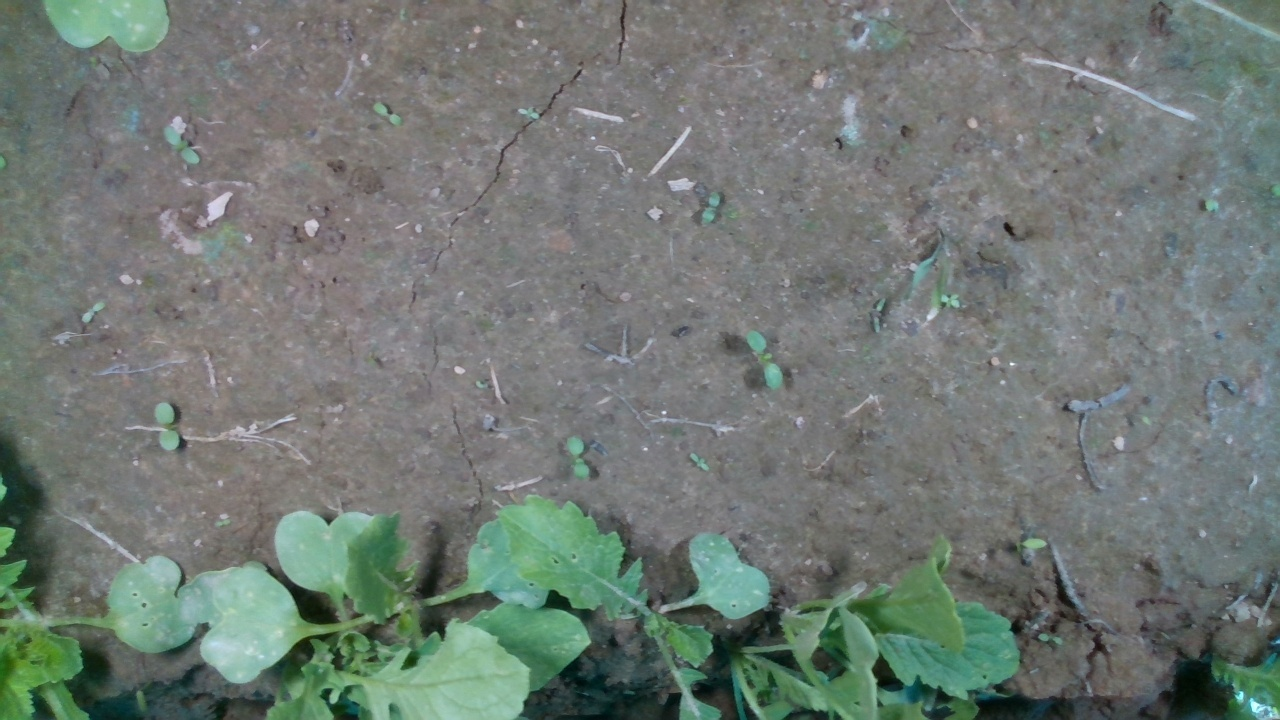weed: (743, 328, 787, 394), (687, 452, 711, 474)
